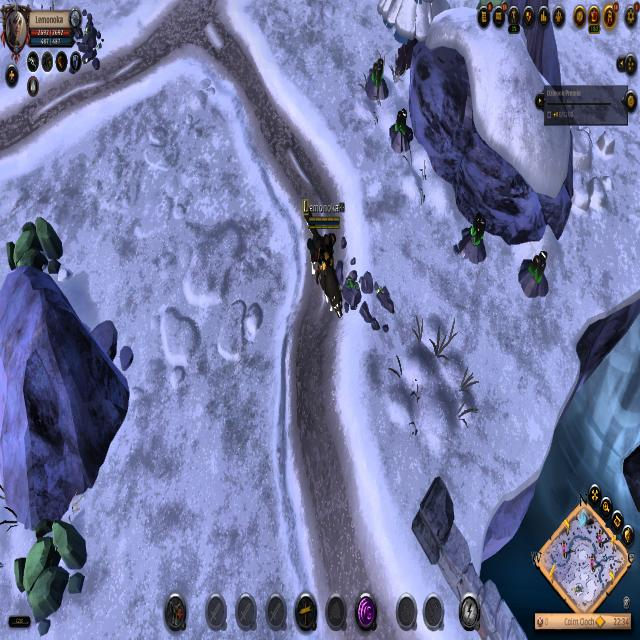ore tier 3: (518, 247, 550, 299), (457, 213, 488, 265), (364, 57, 390, 105), (388, 110, 413, 154)
rock tier 3: (12, 516, 86, 616), (4, 216, 64, 284)
